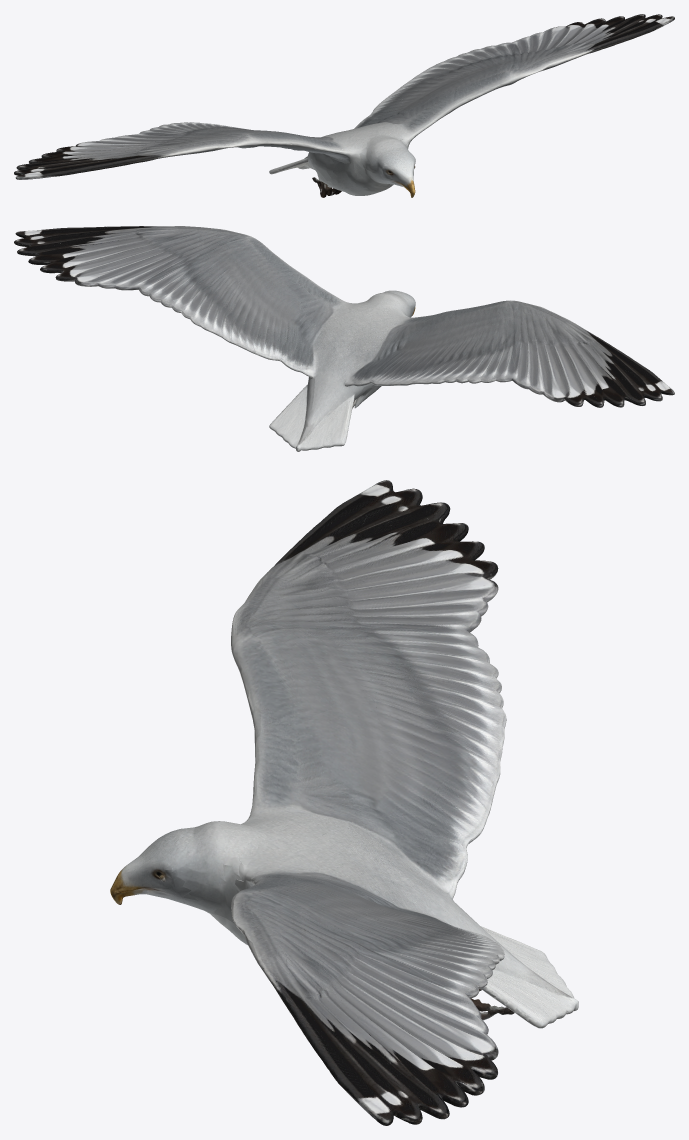
The picture shows the model from 3 angles, top to bottom: view 1: azimuth 30°, elevation 25°; view 2: azimuth 150°, elevation 25°; view 3: azimuth 270°, elevation 25°; orthographic projection. The views are drawn at different scales.
Visible parts, largest first — view 1: Mesh_0; view 2: Mesh_0; view 3: Mesh_0.
Boxes of the visible parts, x1,y1,x2,y2 form: Mesh_0: (14,14,674,197); Mesh_0: (14,226,674,451); Mesh_0: (110,480,578,1125).
Bounding box in the file's own units: 1.9 × 0.3588 × 0.5859.
1 material, 1 textured.
